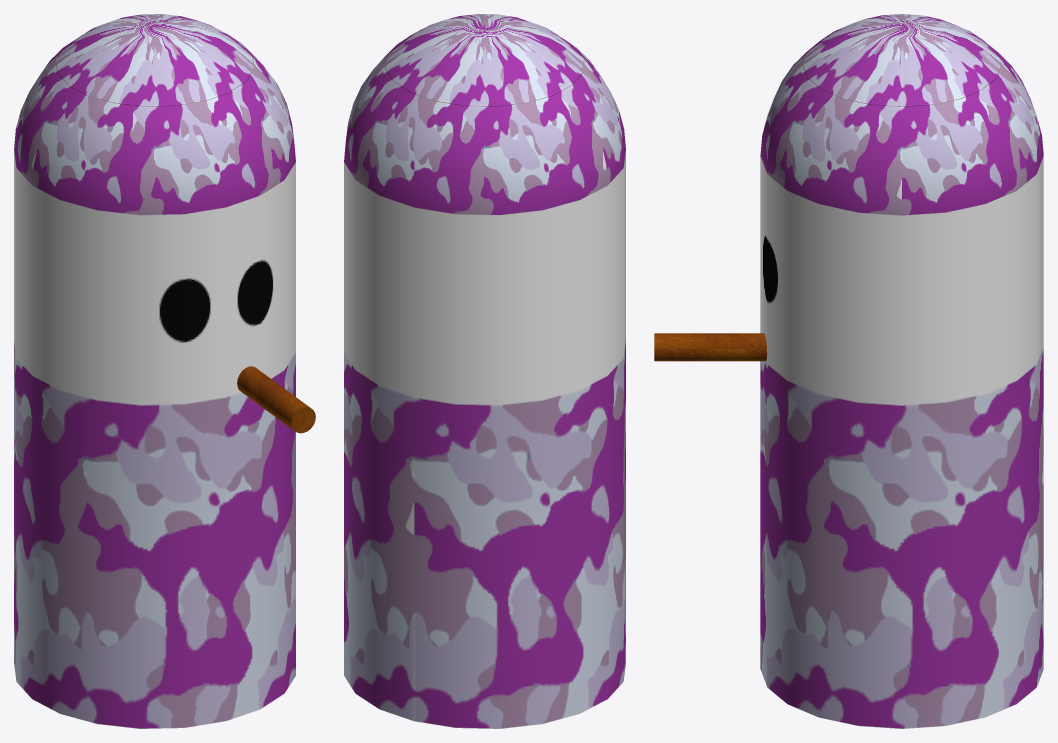
The model's file is soldierpink.fbx.
The picture shows the model from 3 angles, left to right: view 1: azimuth 30°, elevation 25°; view 2: azimuth 150°, elevation 25°; view 3: azimuth 270°, elevation 25°; orthographic projection.
Parts seen in each view (by area): view 1: polySurface1, pCylinder2; view 2: polySurface1; view 3: polySurface1, pCylinder2.
Part boxes in pixels (<box>): polySurface1: <box>14,14,295,728</box>; pCylinder2: <box>237,366,315,433</box>; polySurface1: <box>344,14,625,728</box>; polySurface1: <box>760,14,1043,728</box>; pCylinder2: <box>654,333,767,361</box>.
Bounding box in the file's own units: 2 × 5 × 2.75.
3 materials, 3 textured.
